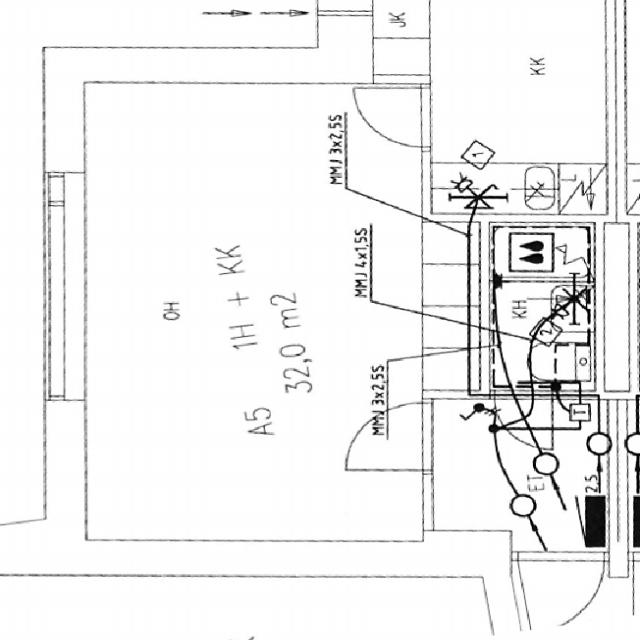door: (517, 551, 603, 634), (346, 402, 434, 470), (351, 87, 430, 146), (494, 390, 552, 448)
